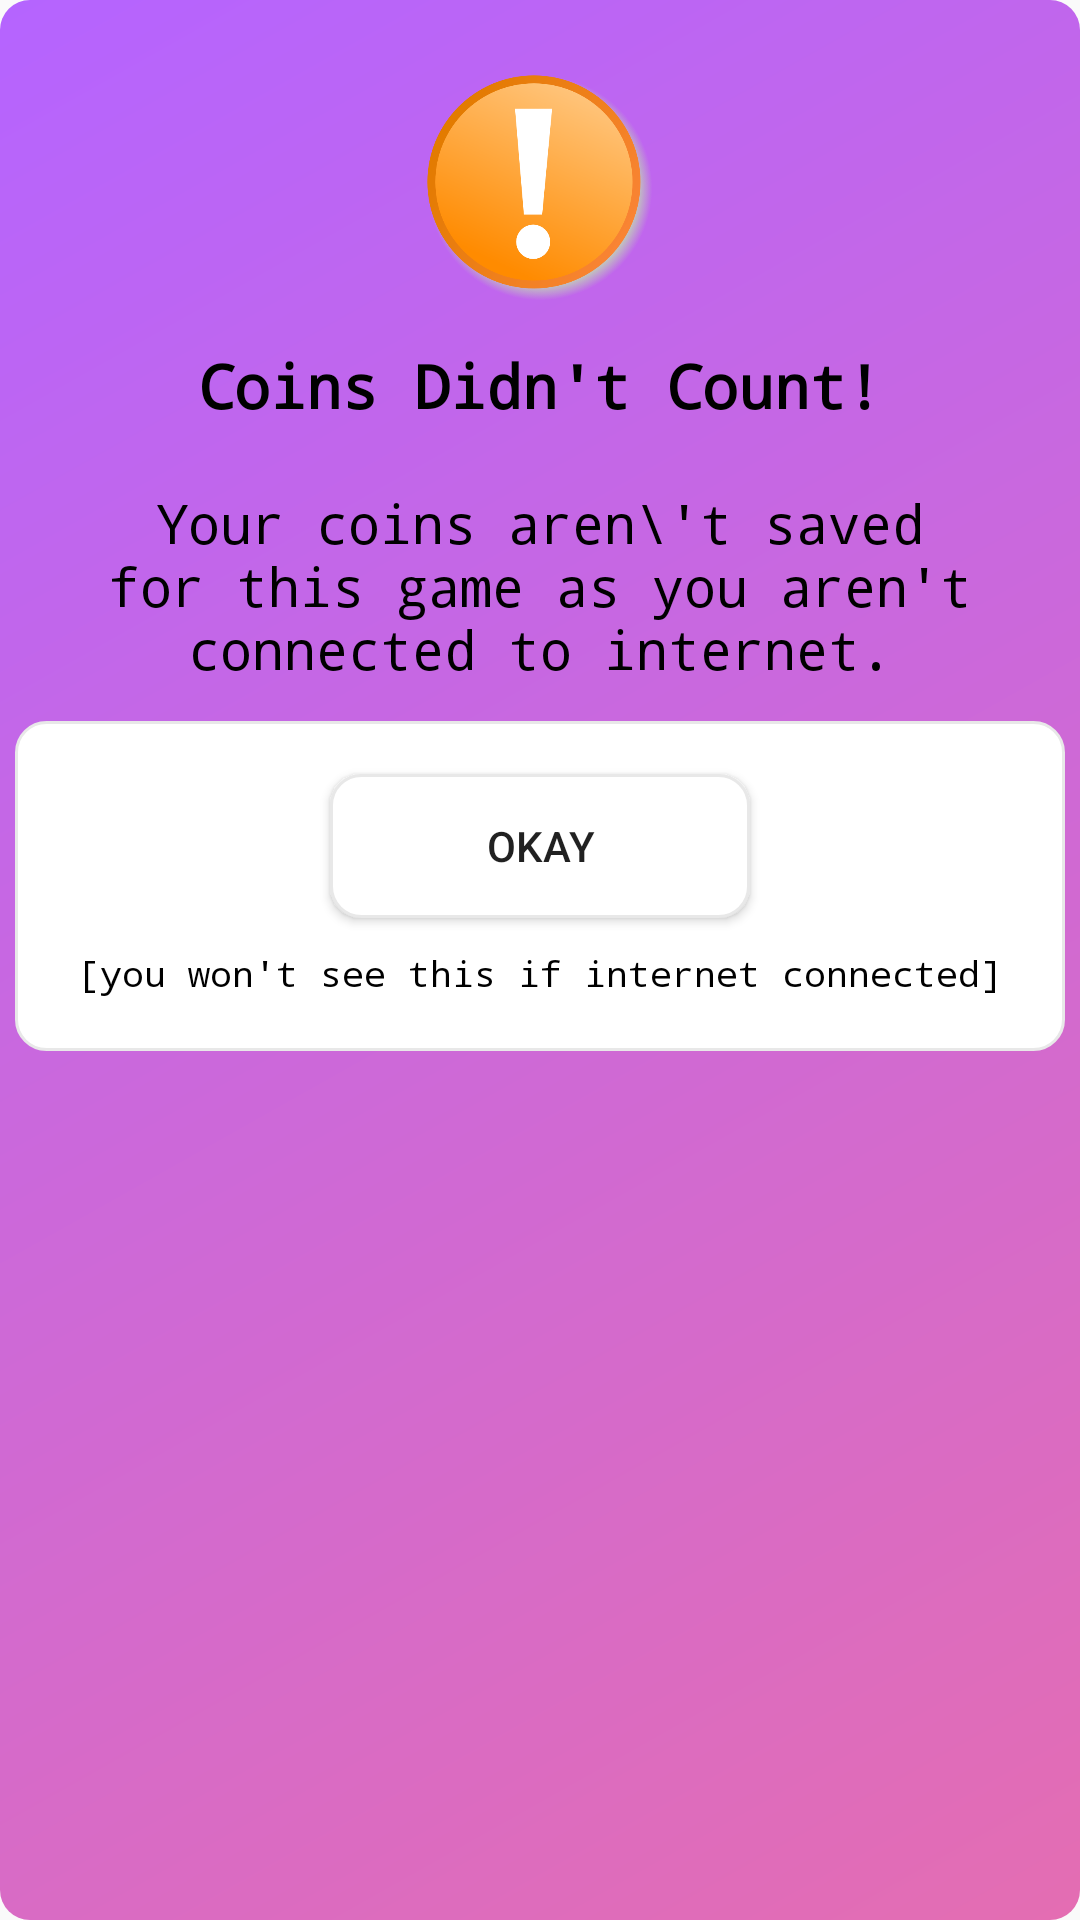

Named icons in this screenshot (1080 x 1920) and their bounding boxes, (x1, y1, x2, y2):
warning: (427, 75, 649, 297)
